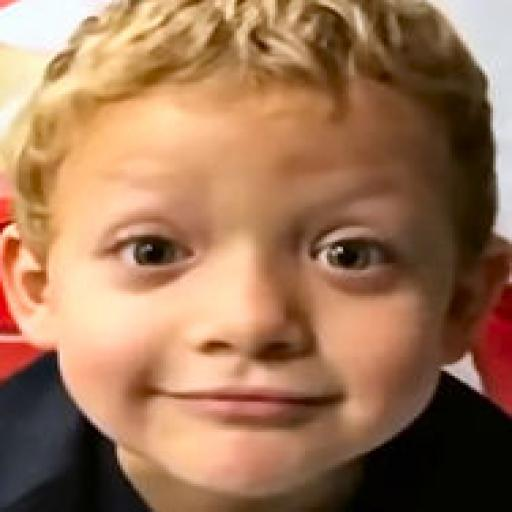Autism: (8, 12, 512, 494)
